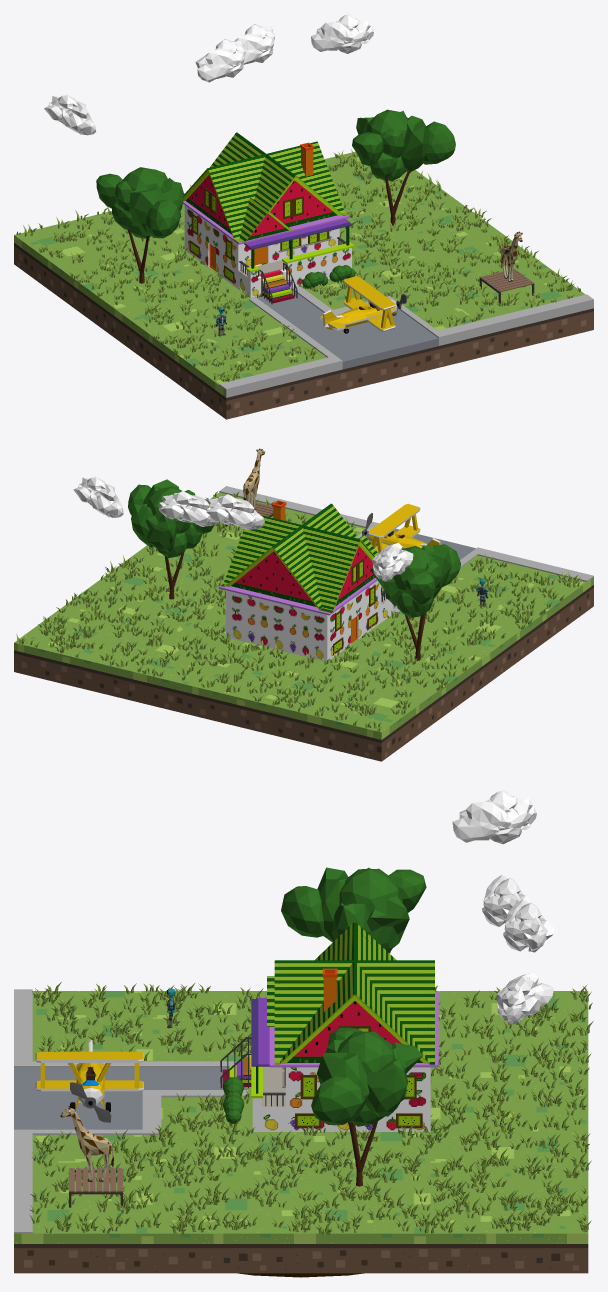
3 views of the same model, one above another, from view 1: azimuth 30°, elevation 25°; view 2: azimuth 150°, elevation 25°; view 3: azimuth 270°, elevation 25° (orthographic). The views are drawn at different scales.
Parts seen in each view (by area): view 1: Cube.006, Cube.1063, Circle.012_Grass_0.192, Cube.007, tree, tree.001, VEHICLES_AIRPLANE, Cube.009, ANIMAL_JIRAFA; view 2: Cube.006, Cube.1063, Circle.012_Grass_0.192, Cube.007, tree.001, tree, VEHICLES_AIRPLANE, ANIMAL_JIRAFA; view 3: Cube.006, Circle.012_Grass_0.192, Cube.1063, tree, Cube.007, tree.001, VEHICLES_AIRPLANE, Cube.009, ANIMAL_JIRAFA.
Boxes of the visible parts, x1=… form: Cube.006: x1=14, y1=151, x2=593, y2=419; Cube.1063: x1=183, y1=132, x2=354, y2=304; Circle.012_Grass_0.192: x1=16, y1=149, x2=580, y2=381; Cube.007: x1=44, y1=14, x2=373, y2=135; tree: x1=352, y1=109, x2=455, y2=225; tree.001: x1=96, y1=167, x2=184, y2=283; VEHICLES_AIRPLANE: x1=320, y1=276, x2=406, y2=333; Cube.009: x1=479, y1=268, x2=534, y2=303; ANIMAL_JIRAFA: x1=501, y1=231, x2=522, y2=281; Cube.006: x1=14, y1=486, x2=593, y2=761; Cube.1063: x1=218, y1=500, x2=393, y2=661; Circle.012_Grass_0.192: x1=16, y1=491, x2=580, y2=731; Cube.007: x1=73, y1=476, x2=413, y2=581; tree.001: x1=370, y1=544, x2=460, y2=660; tree: x1=128, y1=479, x2=214, y2=599; VEHICLES_AIRPLANE: x1=362, y1=503, x2=441, y2=553; ANIMAL_JIRAFA: x1=243, y1=448, x2=265, y2=509; Cube.006: x1=14, y1=989, x2=588, y2=1273; Circle.012_Grass_0.192: x1=29, y1=982, x2=593, y2=1234; Cube.1063: x1=220, y1=922, x2=438, y2=1131; tree: x1=311, y1=1027, x2=423, y2=1186; Cube.007: x1=452, y1=790, x2=553, y2=1024; tree.001: x1=281, y1=867, x2=426, y2=953; VEHICLES_AIRPLANE: x1=35, y1=1039, x2=143, y2=1122; Cube.009: x1=69, y1=1168, x2=122, y2=1207; ANIMAL_JIRAFA: x1=60, y1=1106, x2=113, y2=1181.
Bounding box in the file's own units: 4071 × 2242 × 4040.
44 materials, 5 textured.
